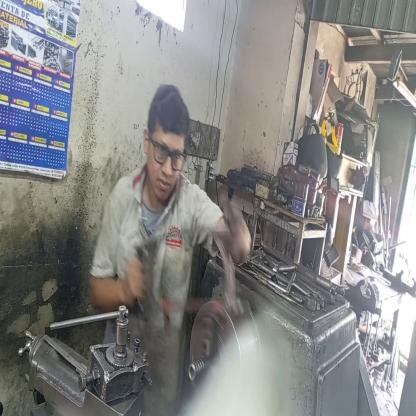lentes: (147, 132, 191, 177)
